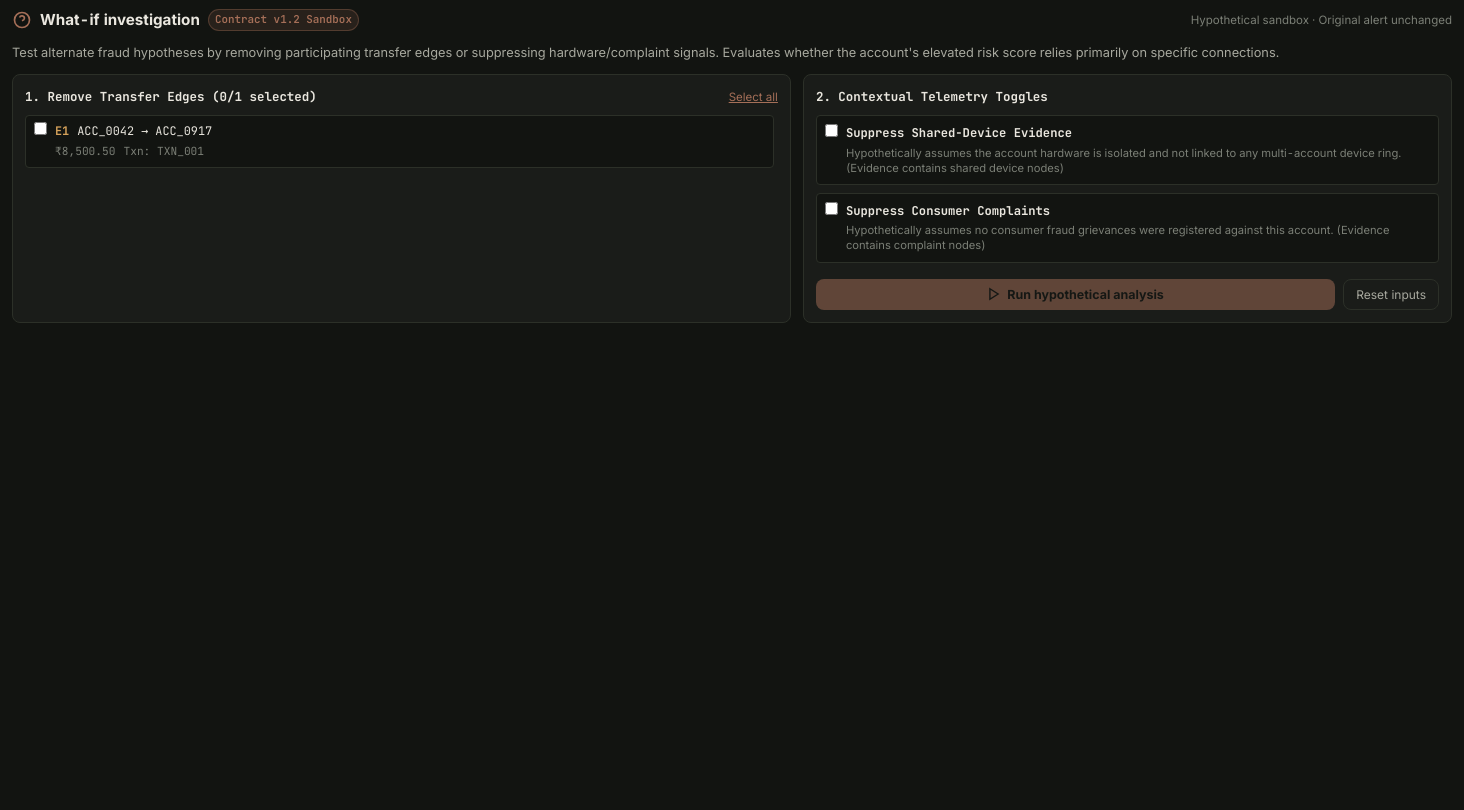
it: WhatIfInvestigation Component › runs hypothetical analysis with selected edge and suppression toggles
// Select transfer edge E1
Click the checkbox with test id "edge-checkbox-E1" at (40, 129), box x1=34 y1=122 x2=47 y2=135
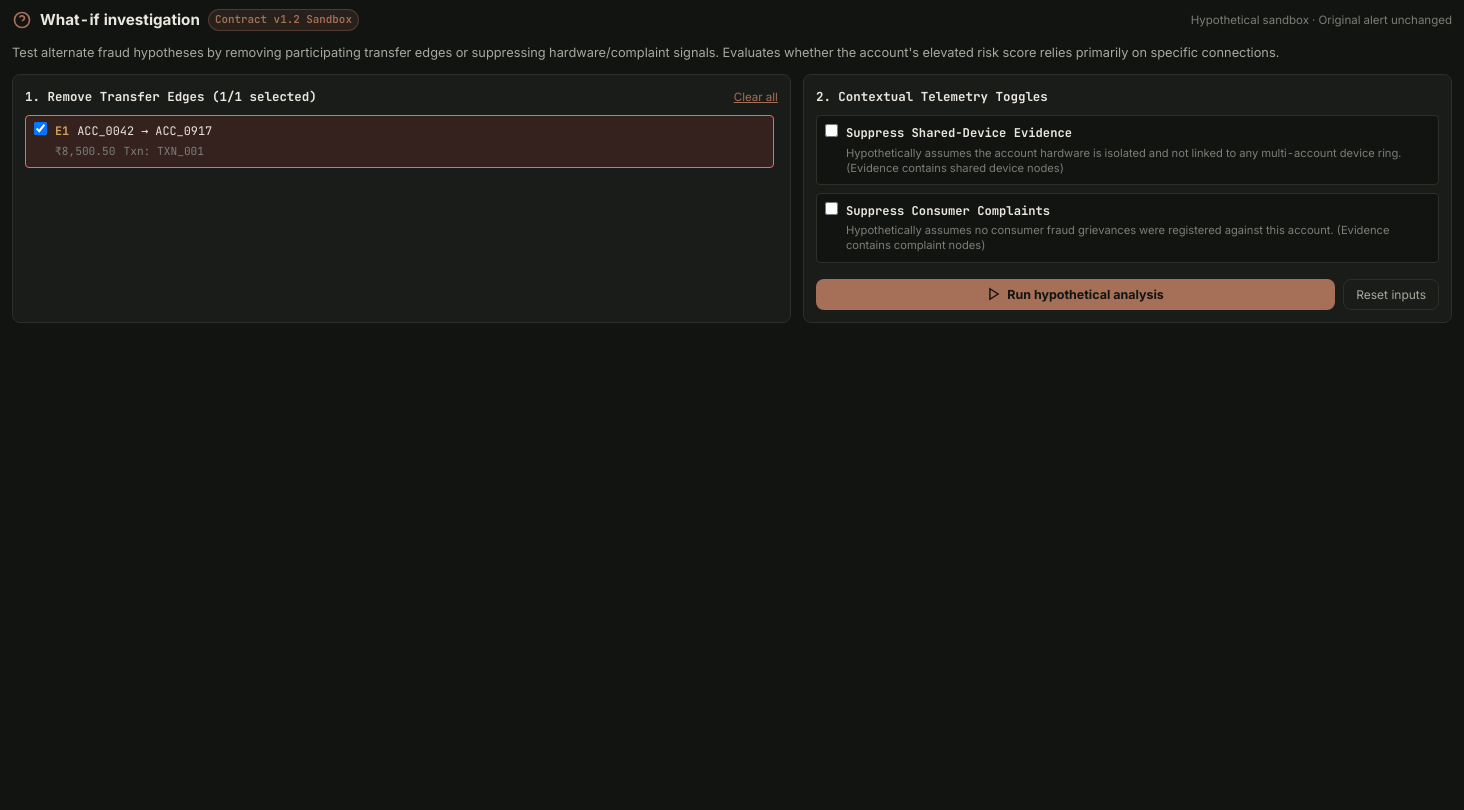
// Toggle suppress devices
Click the checkbox with test id "toggle-suppress-devices" at (831, 131), box x1=825 y1=124 x2=838 y2=137
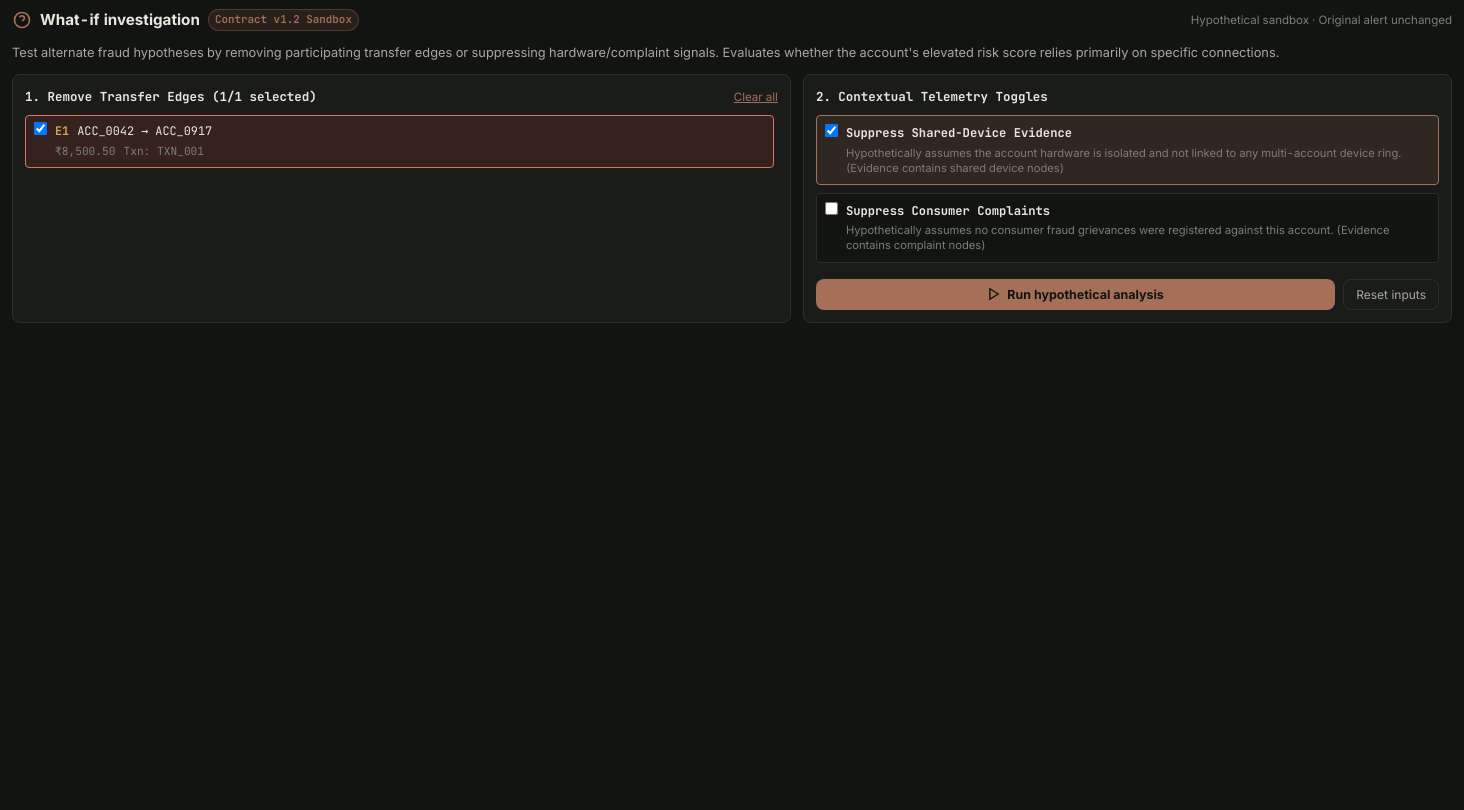
Now the button with test id "btn-run-whatif" is enabled
Click the button with test id "btn-run-whatif" at (1076, 294), box x1=816 y1=278 x2=1335 y2=310
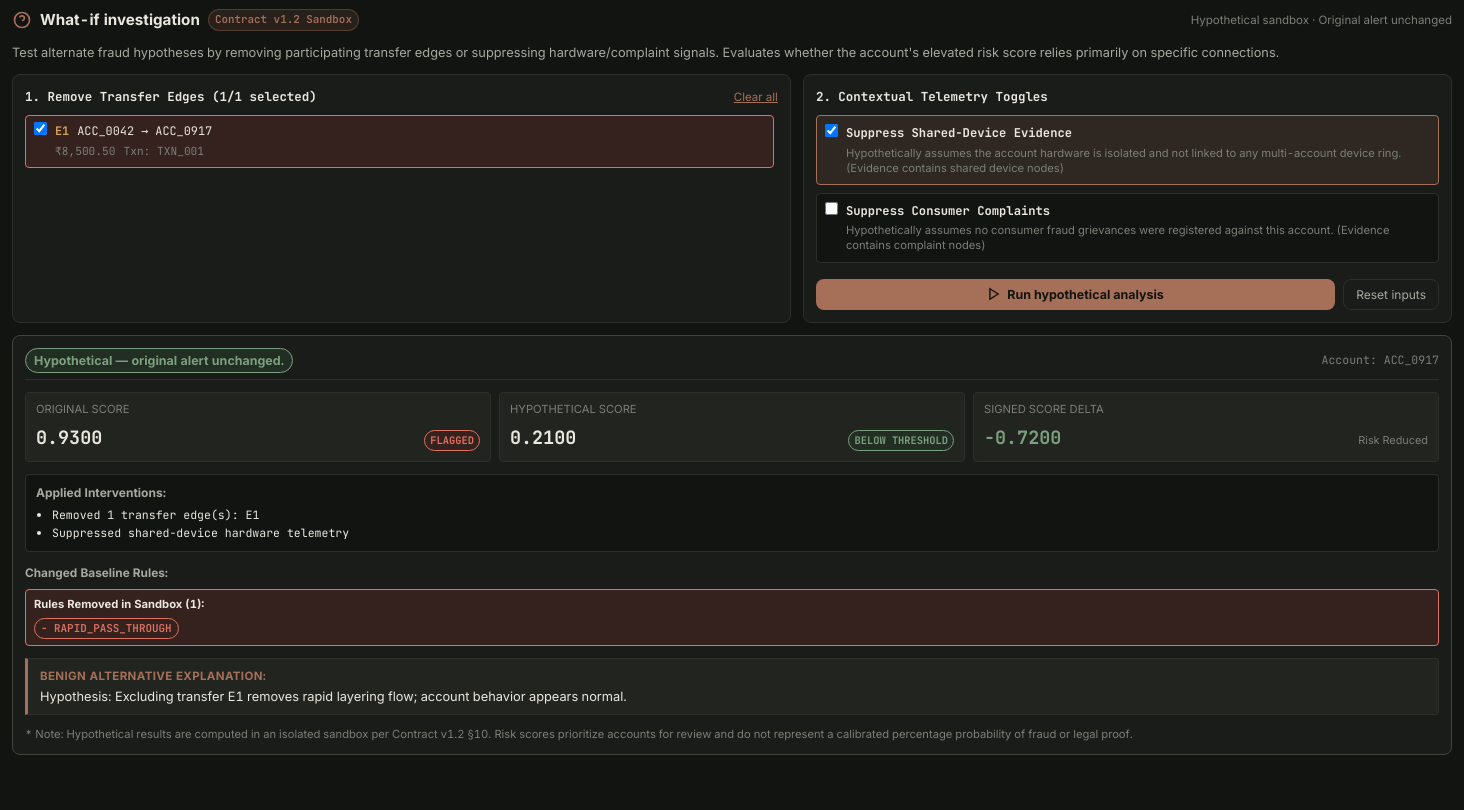
Now the element with test id "what-if-results-panel" is shown, box x1=12 y1=334 x2=1452 y2=755
Now the text "Hypothetical — original alert unchanged." is shown, box x1=25 y1=348 x2=293 y2=374
Now the text "0.9300" is shown, box x1=36 y1=423 x2=102 y2=453
